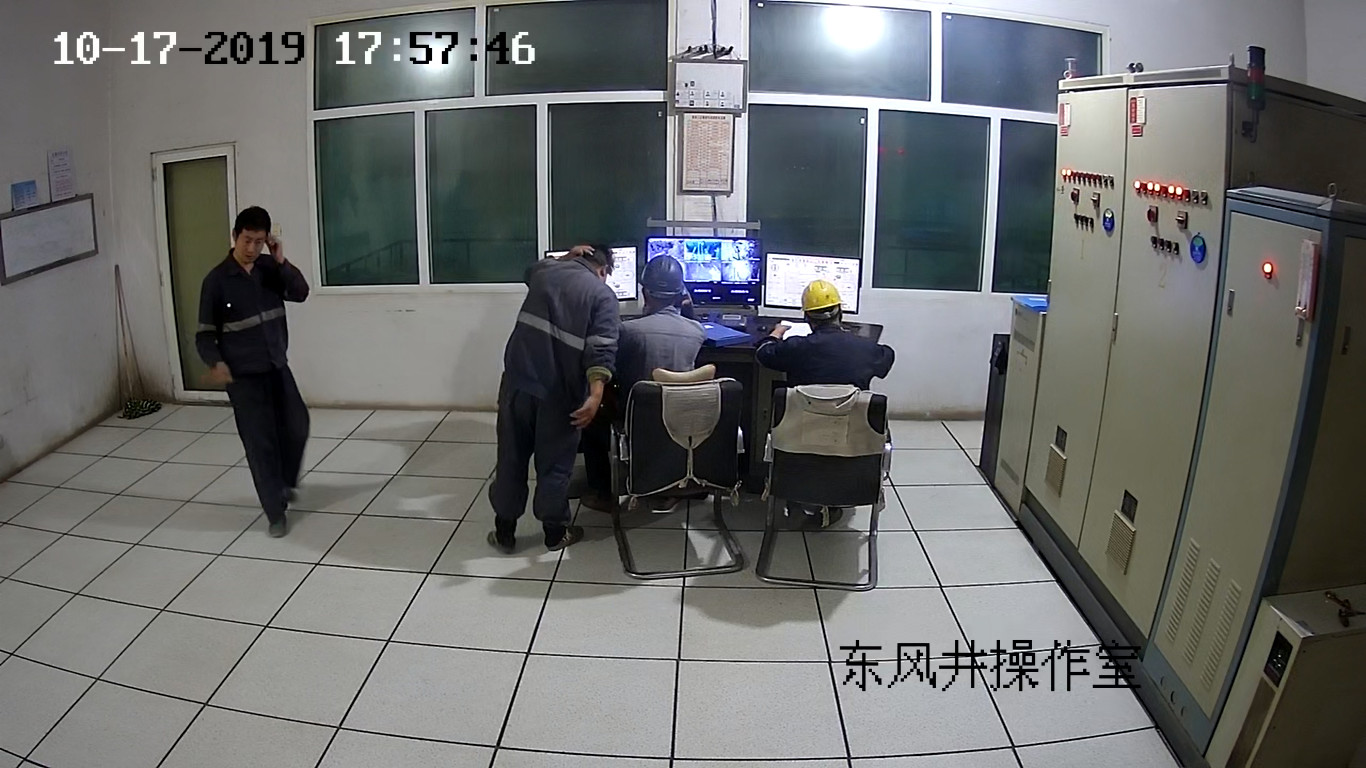helmet: (640, 254, 685, 295), (802, 279, 843, 311)
